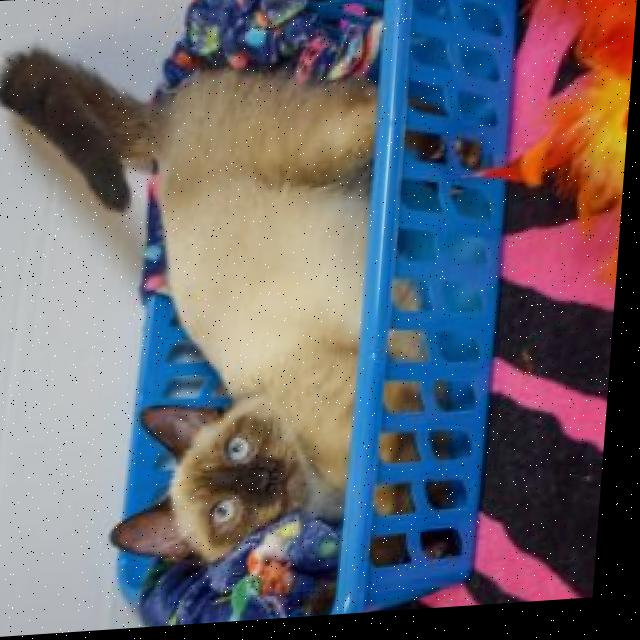Siamese: (0, 29, 386, 586)
